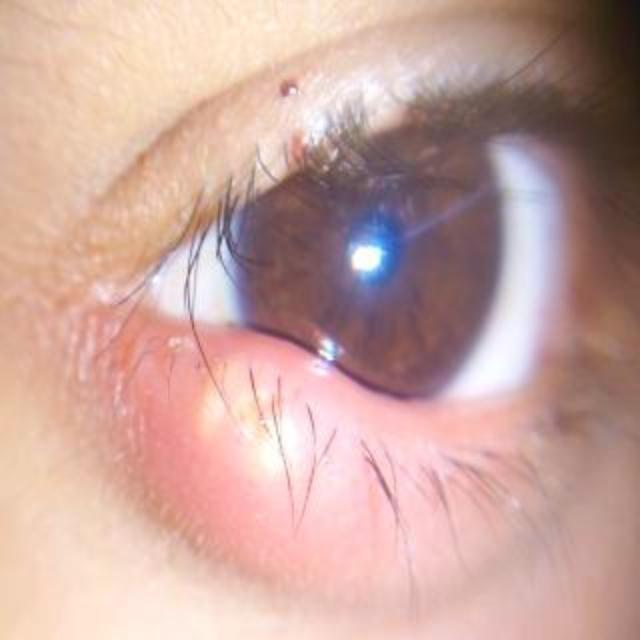Stye: (81, 297, 408, 545)
